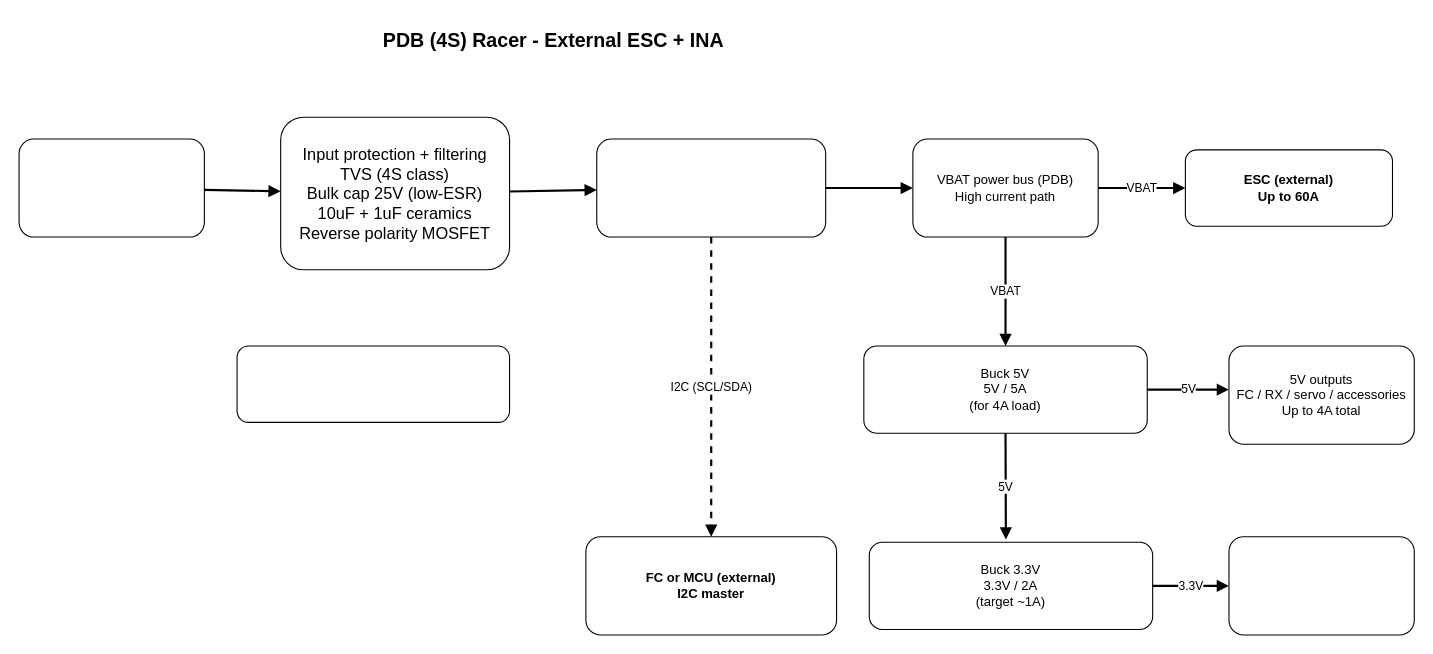
This 1433x654 diagram has some shape labels left out. The shapes that lost their labels are listed below. From the top down, each one's centre as x and y in pixels, then its label:
At point 111,187: "Battery 4S 12-16.8V XT60 input".
At point 711,187: "INA (in-line) Current + voltage monitor I2C output".
At point 373,383: "Test points VBAT, 5V, 3.3V, GND".
At point 1321,585: "3.3V outputs MCU / sensors / logic Up to 1A".
